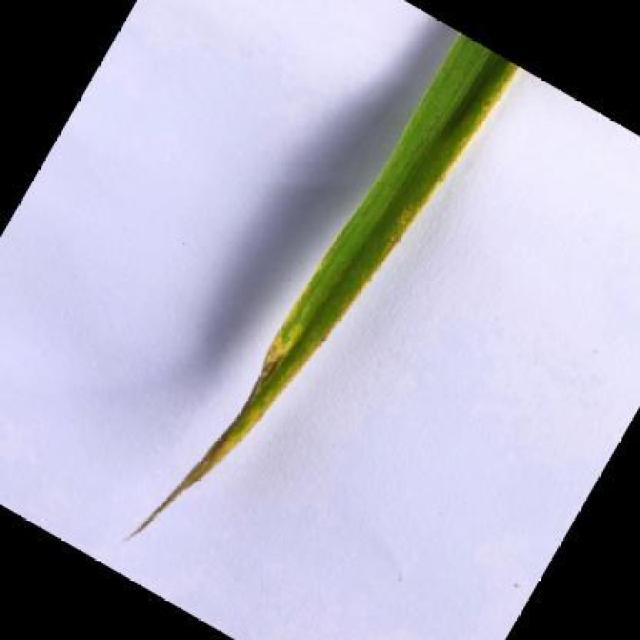Rice False Smut: (123, 15, 514, 591)
